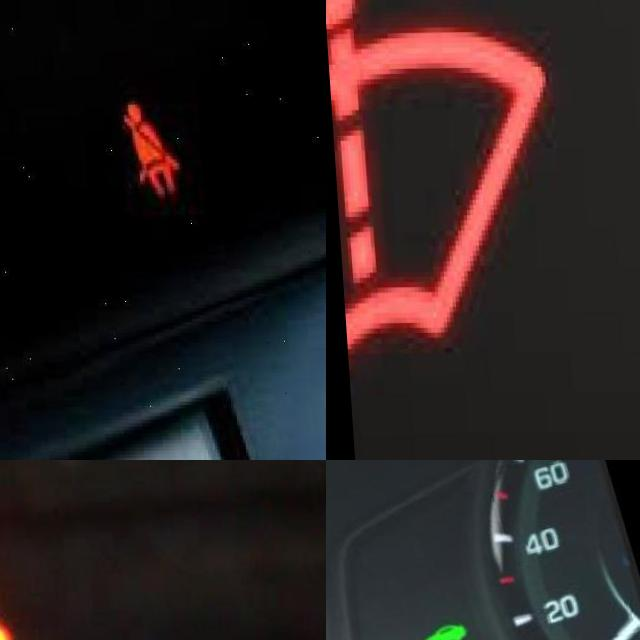Seat Belt: (116, 102, 182, 198)
Washer Fluid: (326, 0, 556, 342)
